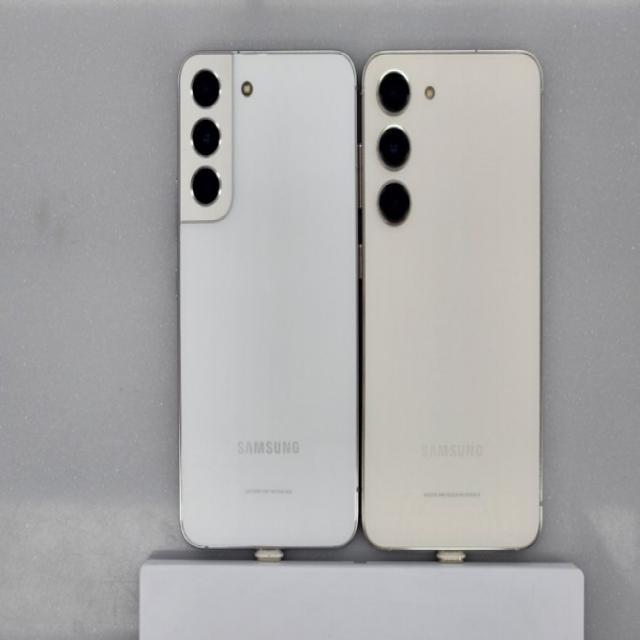phone: (362, 50, 540, 551), (180, 52, 359, 550)
